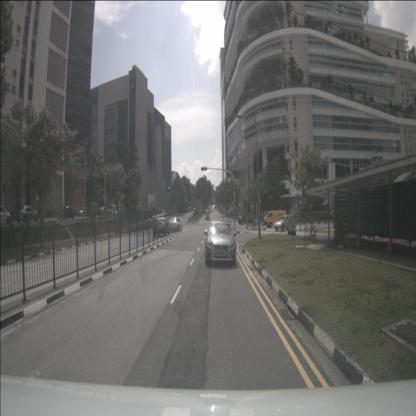vehicle-bicycle: (308, 223, 317, 240)
vehicle-car: (204, 222, 238, 266), (264, 210, 287, 228), (16, 205, 38, 223), (274, 215, 295, 232), (153, 217, 170, 237), (0, 204, 13, 225), (167, 218, 183, 234), (57, 206, 75, 220), (238, 214, 255, 225), (108, 204, 121, 216), (97, 206, 110, 217), (77, 207, 90, 217)
vehicle-truck: (205, 210, 210, 220)
